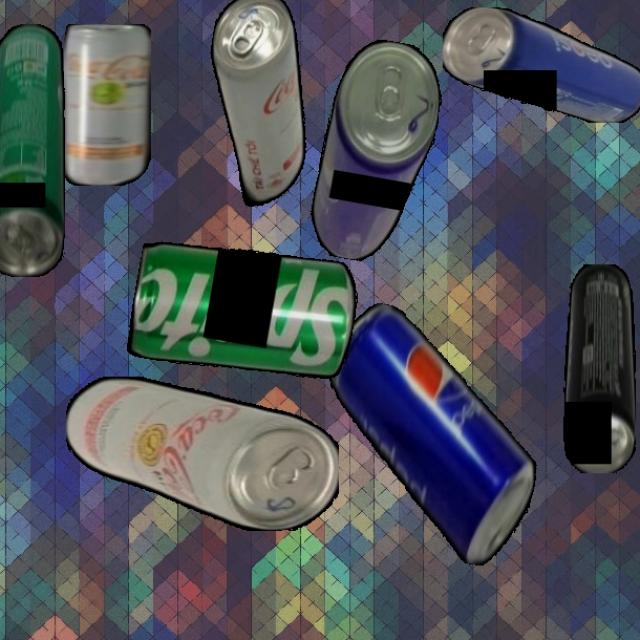debris: (303, 298, 560, 572), (65, 377, 339, 531), (125, 229, 363, 392), (304, 34, 450, 270), (183, 0, 331, 223), (443, 6, 640, 123), (0, 23, 65, 277), (562, 264, 636, 474), (64, 23, 151, 186)
